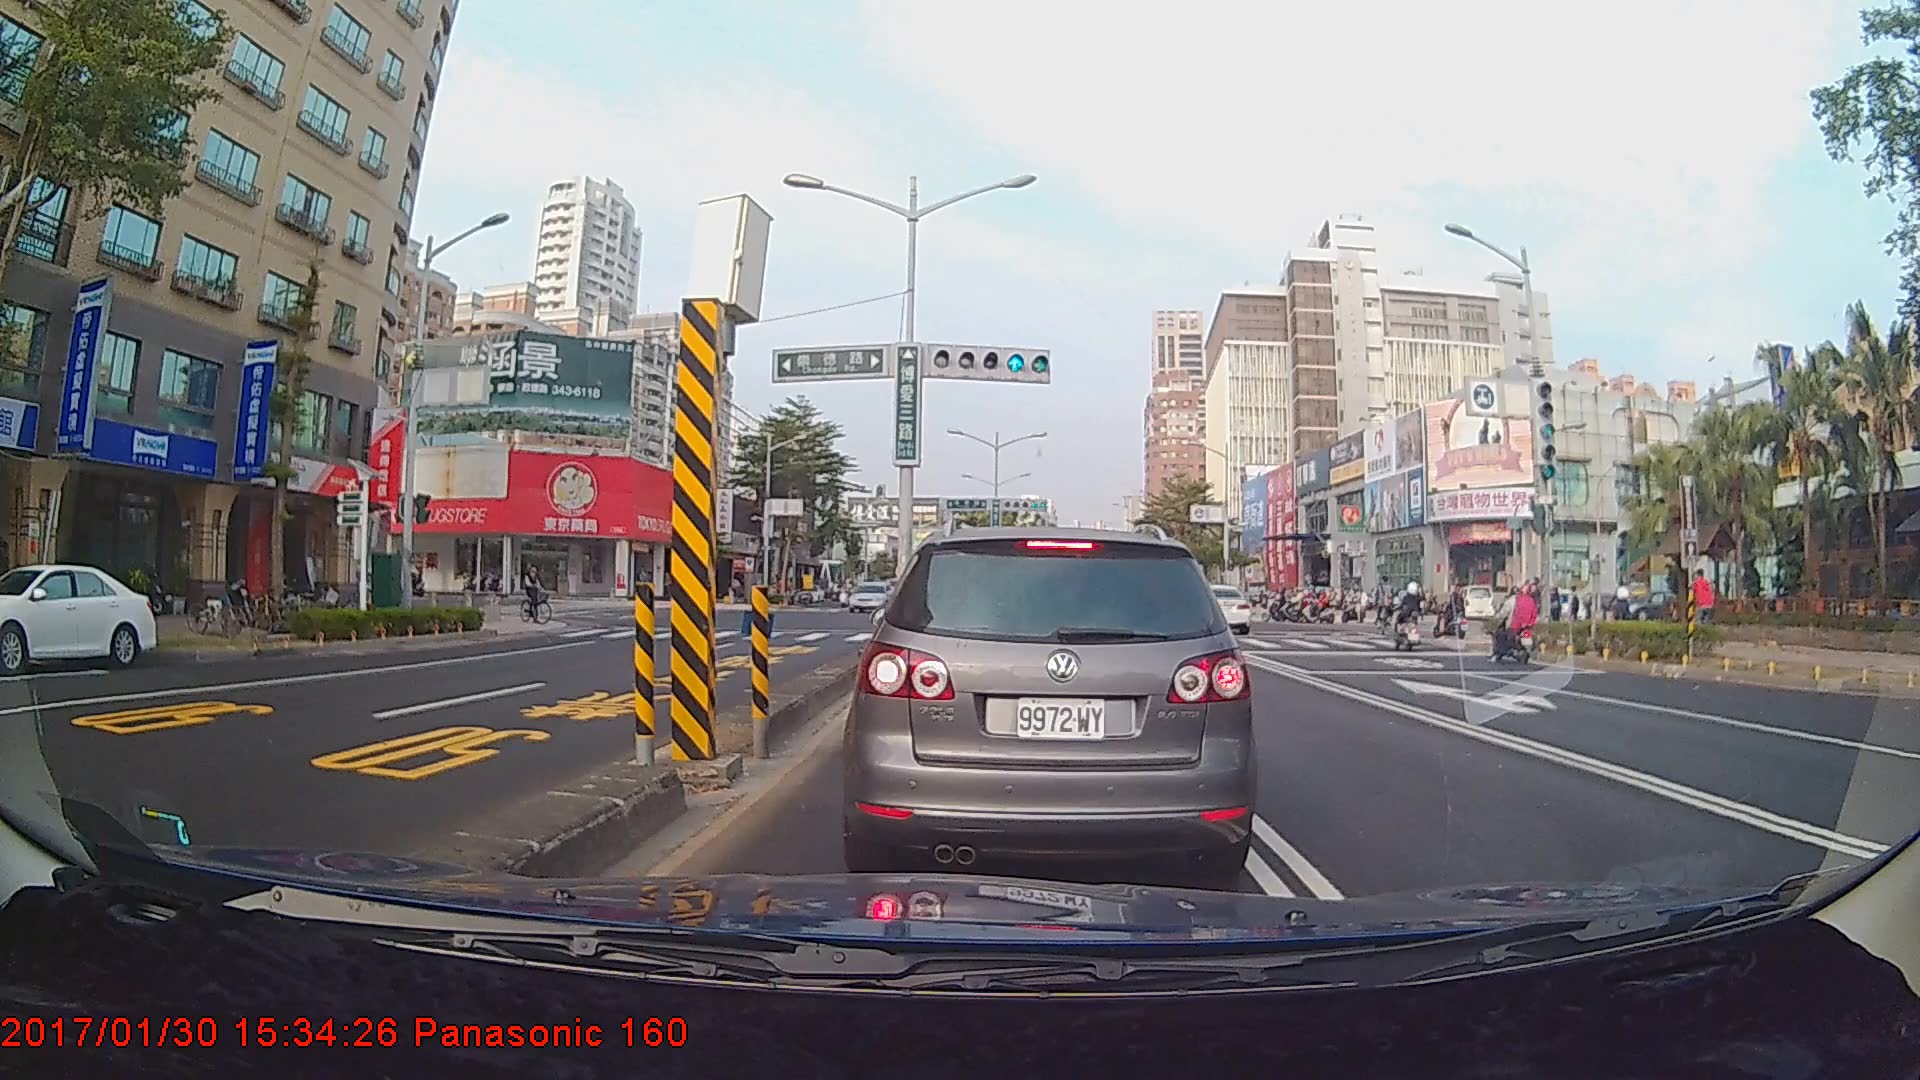pedestrian: (1566, 581, 1586, 640)
rider: (1485, 582, 1548, 668), (1680, 566, 1718, 646), (518, 559, 561, 629), (1396, 584, 1435, 652), (1436, 582, 1473, 646), (1368, 574, 1403, 638), (1610, 578, 1641, 630), (406, 566, 428, 603)
vehicle: (852, 521, 1248, 886), (0, 561, 157, 671), (1179, 582, 1250, 635), (846, 579, 896, 613)
